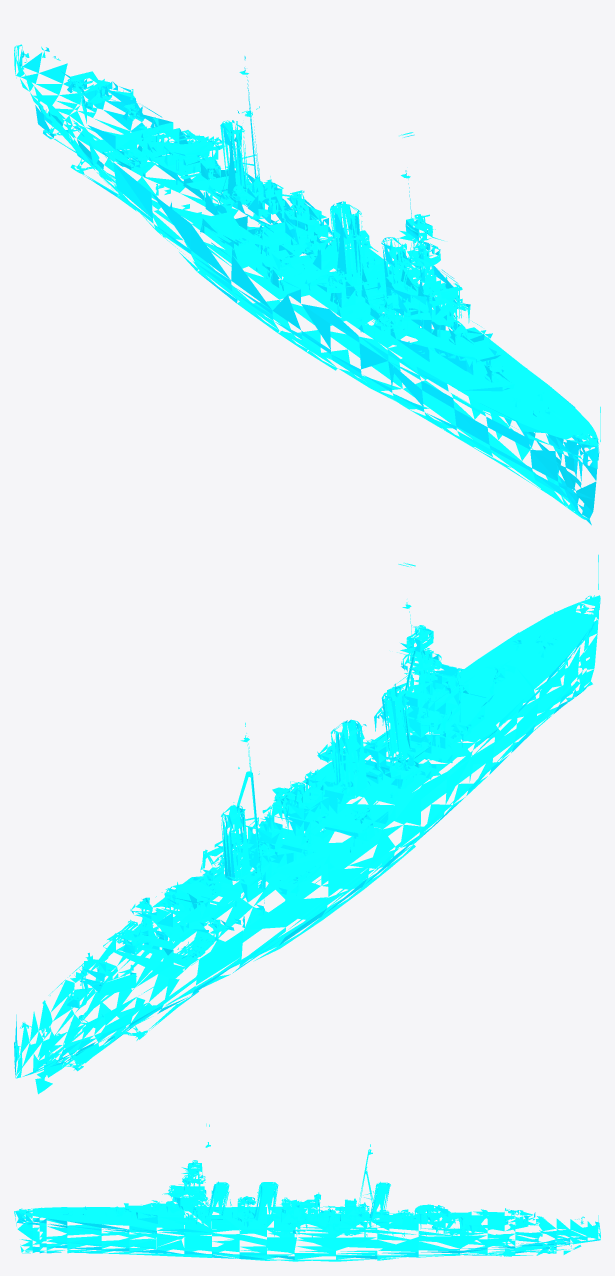
The model's file is Emerald.glb.
3 views of the same model, one above another, from view 1: azimuth 30°, elevation 25°; view 2: azimuth 150°, elevation 25°; view 3: azimuth 270°, elevation 25° (orthographic). The views are drawn at different scales.
Bounding box in the file's own units: 1.12 × 2.84 × 11.57.
